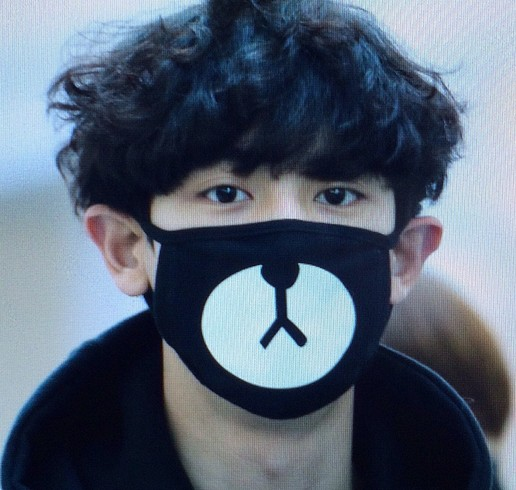face_mask: (156, 141, 393, 418)
